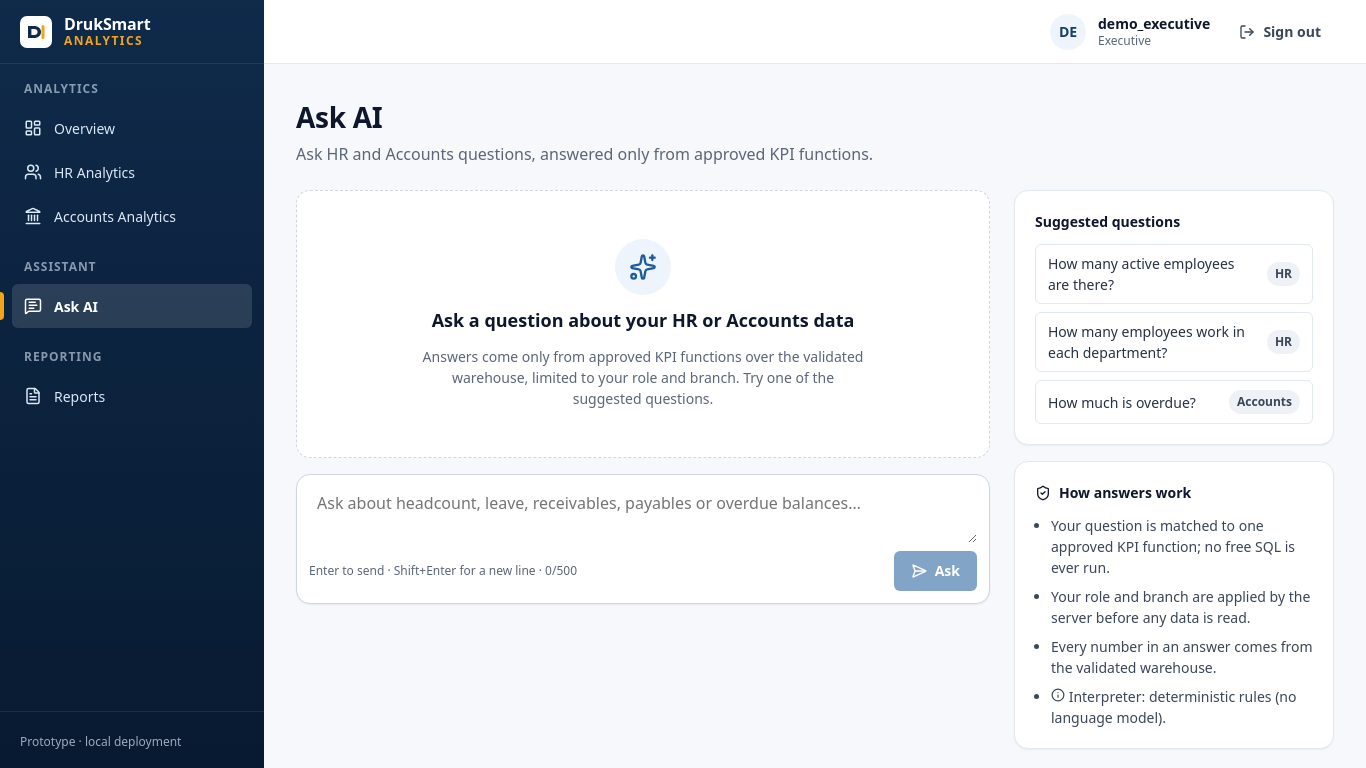
it: Ask AI › explains a server failure and lets the user ask again
The image size is (1366, 768).
Type "How much is overdue?" into the text box named "Your question" at (643, 515), box [309,487,977,543]
Then press Enter
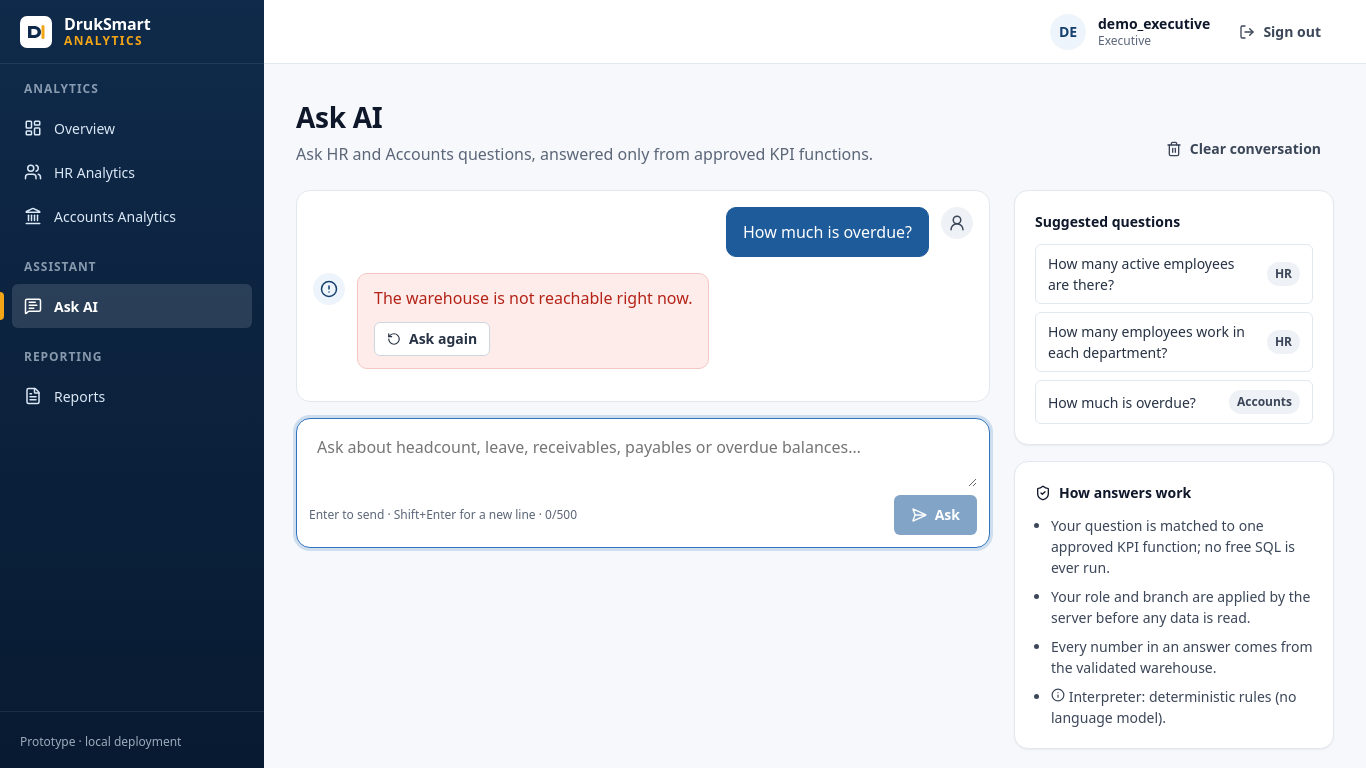
Expected: the message shows "The warehouse is not reachable right now.", [374,287,692,309]
Click the button "Ask again" at (432, 339), box [374,322,490,356]
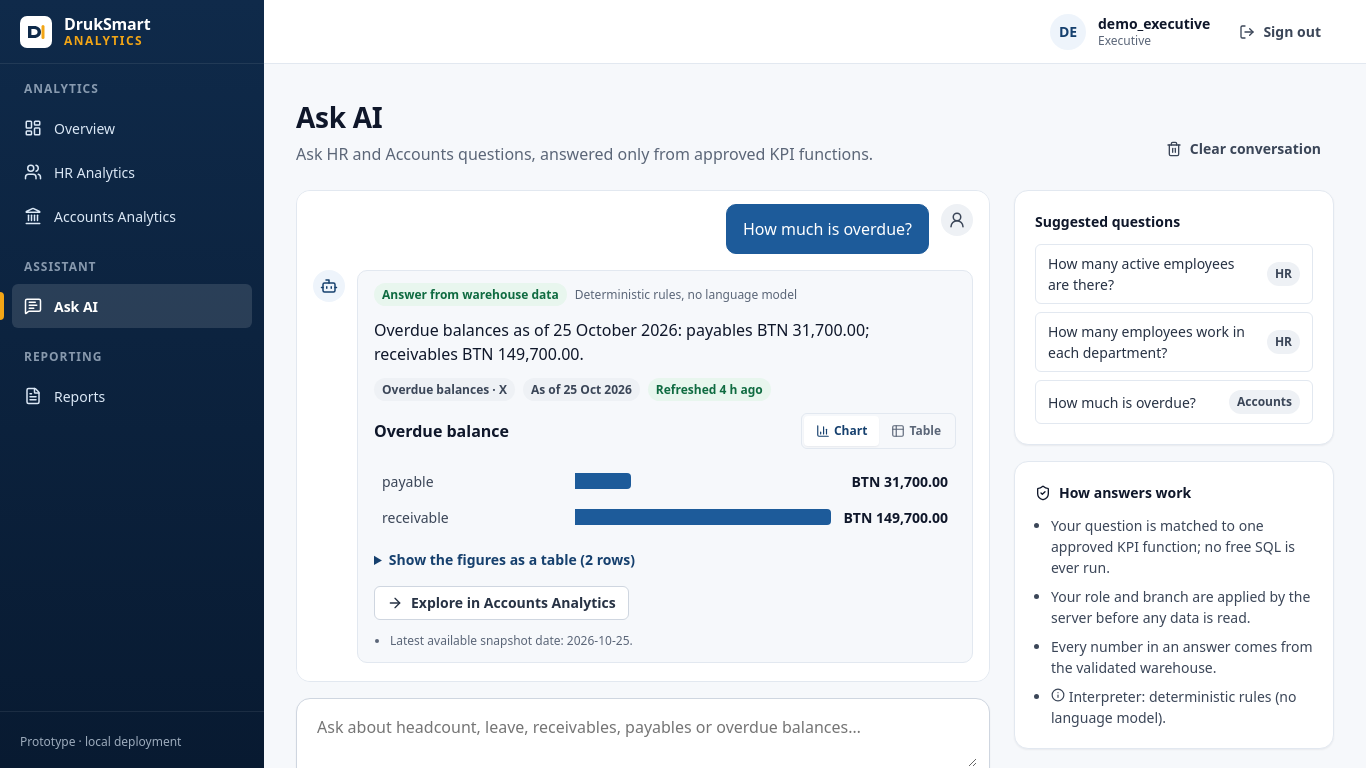
Expected: the text "receivables BTN 149,700.00" is shown, [374,319,869,365]
